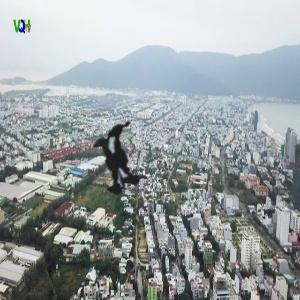drone: (18, 62, 221, 265)
